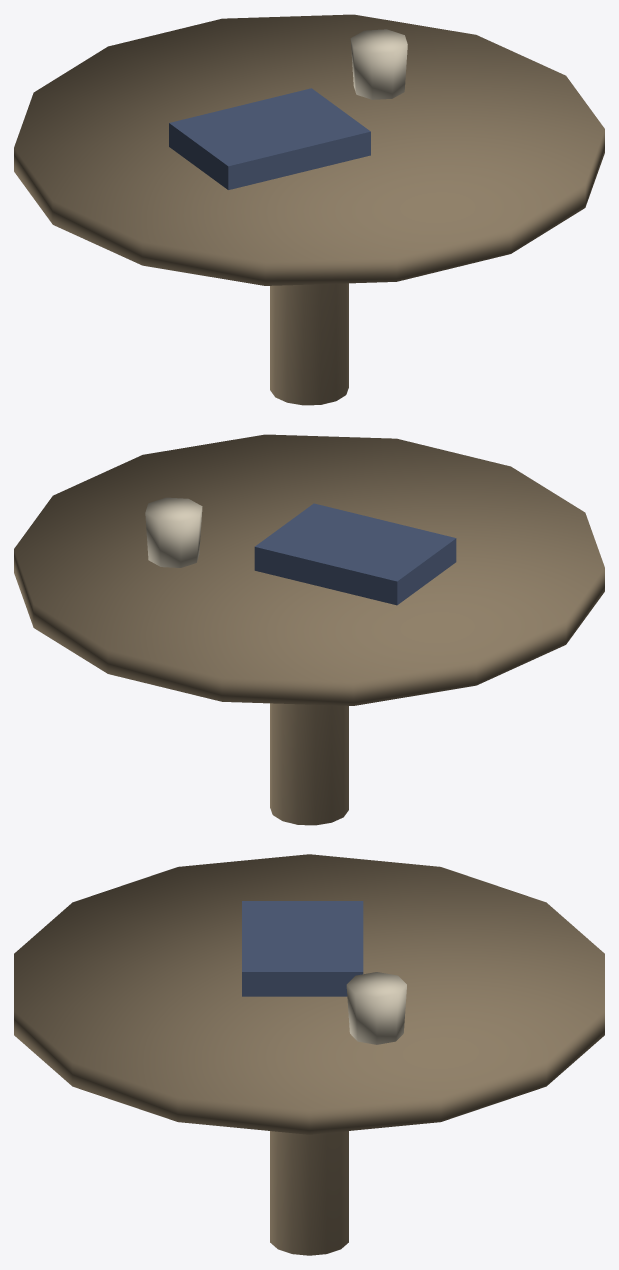
The model's file is city_coffee_table.glb.
3 renders of one model, top to bottom at view 1: azimuth 30°, elevation 25°; view 2: azimuth 150°, elevation 25°; view 3: azimuth 270°, elevation 25°, orthographic. The views are drawn at different scales.
Parts seen in each view (by area): view 1: CityCoffeeTable_Table, CityCoffeeTable_Book, CityCoffeeTable_Cup; view 2: CityCoffeeTable_Table, CityCoffeeTable_Book, CityCoffeeTable_Cup; view 3: CityCoffeeTable_Table, CityCoffeeTable_Book, CityCoffeeTable_Cup.
Part boxes in pixels (bbox=[...]): CityCoffeeTable_Table: bbox=[14, 14, 604, 405]; CityCoffeeTable_Book: bbox=[169, 88, 370, 189]; CityCoffeeTable_Cup: bbox=[350, 29, 407, 99]; CityCoffeeTable_Table: bbox=[14, 434, 604, 825]; CityCoffeeTable_Book: bbox=[254, 503, 456, 605]; CityCoffeeTable_Cup: bbox=[145, 497, 202, 567]; CityCoffeeTable_Table: bbox=[14, 854, 604, 1255]; CityCoffeeTable_Book: bbox=[242, 901, 363, 996]; CityCoffeeTable_Cup: bbox=[346, 972, 406, 1044].
Size of the model in its own units: 0.9 by 0.5 by 0.8774.
